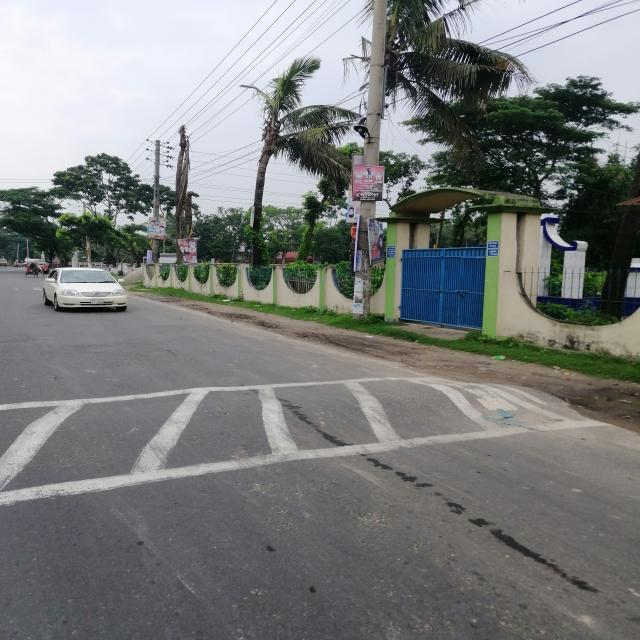Car: (41, 266, 131, 312)
